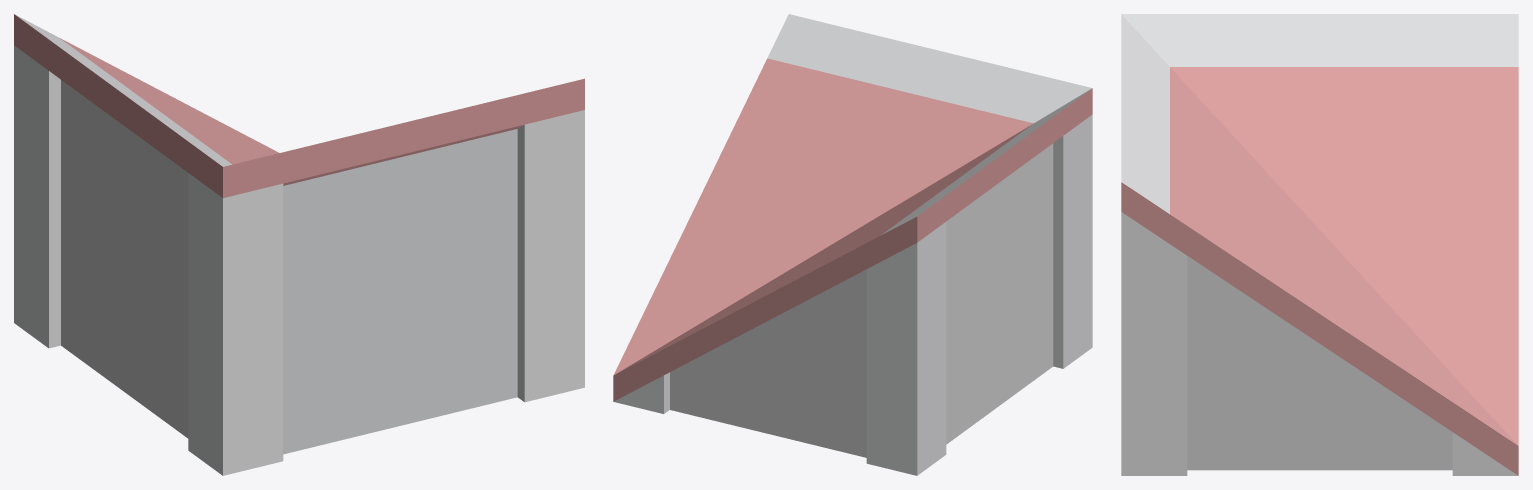
The model's file is Roof_Inner_Corner_Red_01.glb.
3 views of the same model, side by side, from view 1: azimuth 30°, elevation 25°; view 2: azimuth 150°, elevation 25°; view 3: azimuth 270°, elevation 25° (orthographic). The views are drawn at different scales.
Parts seen in each view (by area): view 1: Mesh1 Roof_Inner_Corner_Red Model; view 2: Mesh1 Roof_Inner_Corner_Red Model; view 3: Mesh1 Roof_Inner_Corner_Red Model.
Boxes of the visible parts, x1,y1,x2,y2 form: Mesh1 Roof_Inner_Corner_Red Model: [14, 14, 584, 475]; Mesh1 Roof_Inner_Corner_Red Model: [613, 14, 1092, 475]; Mesh1 Roof_Inner_Corner_Red Model: [1121, 14, 1518, 475].
Bounding box in the file's own units: 3 × 2.45 × 3.
